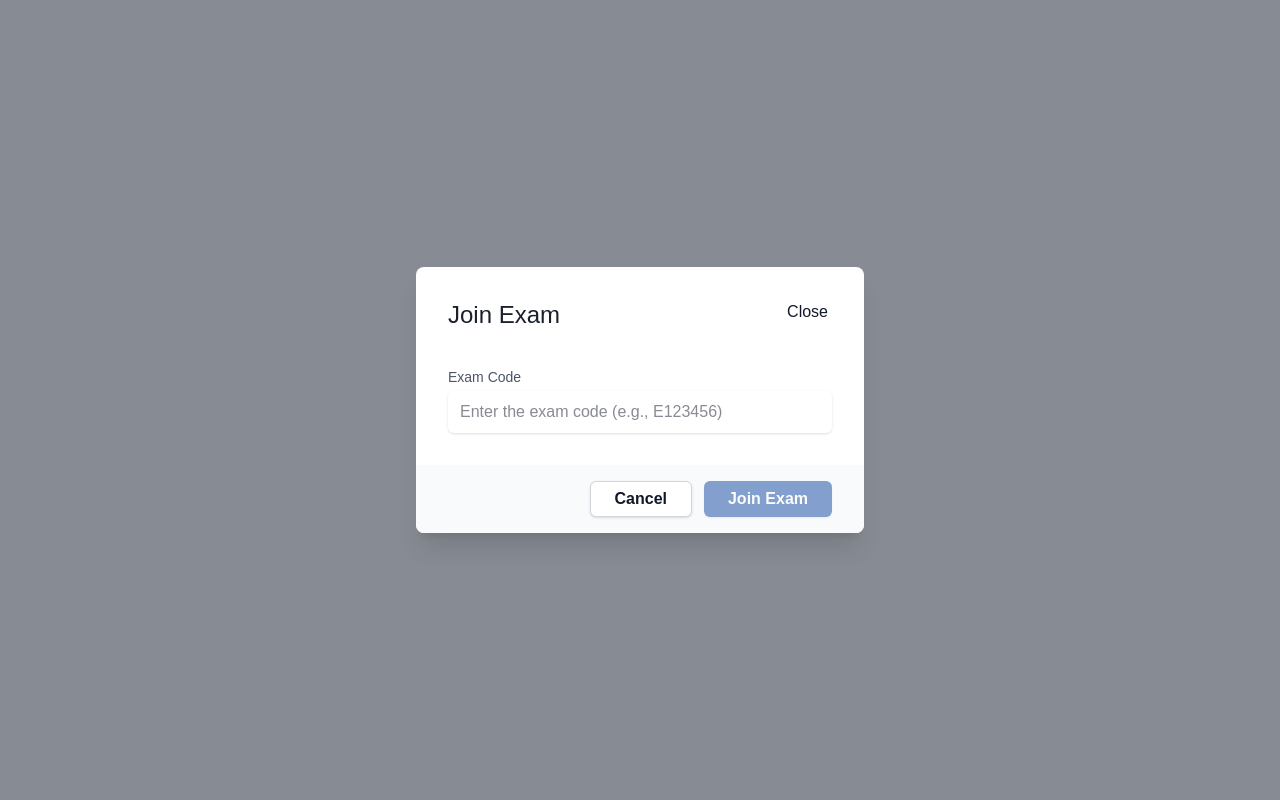
Test: JoinExamModal - Exam Room Join Logic › TC_JOIN_UI_008
Type "BAD-CODE" into the field with placeholder "Enter the exam code (e.g., E123456)" at (640, 412), box left=448, top=391, right=832, bottom=433
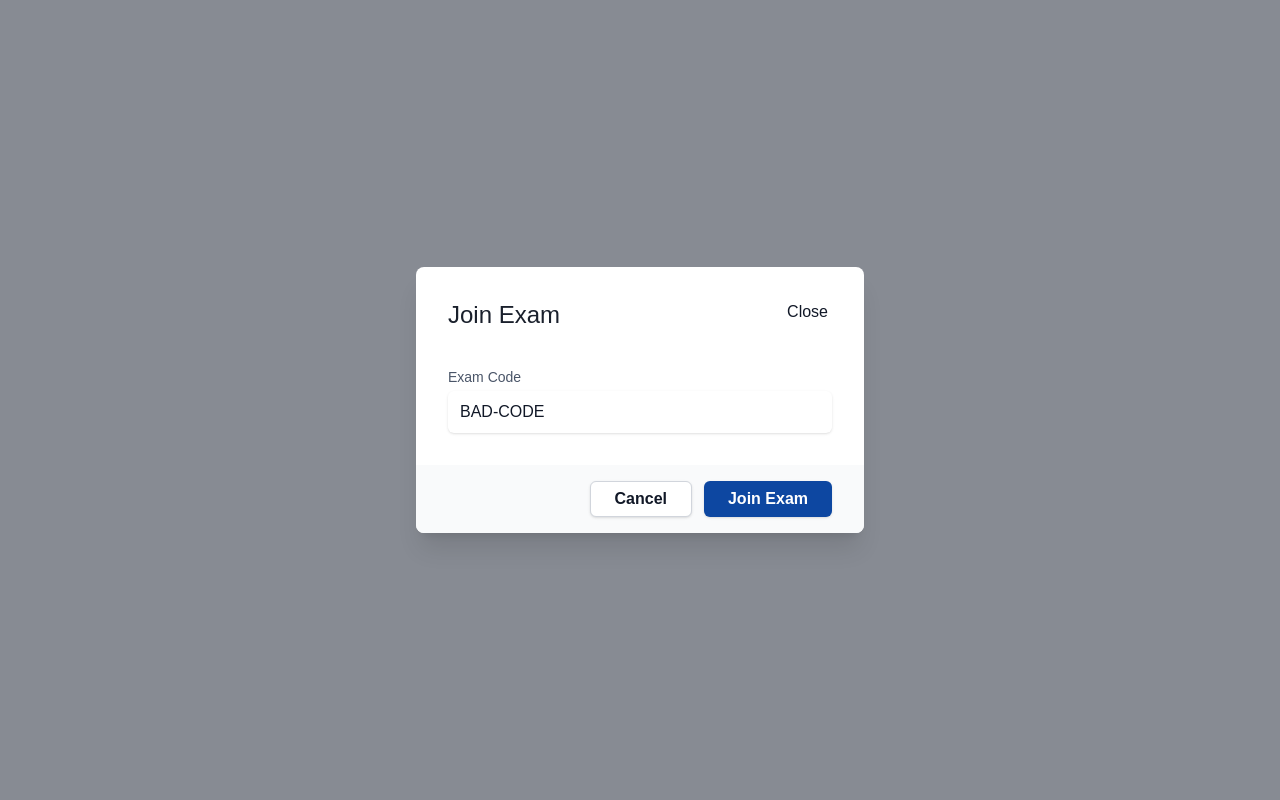
Click the button "Join Exam" at (768, 499), box left=704, top=481, right=832, bottom=517
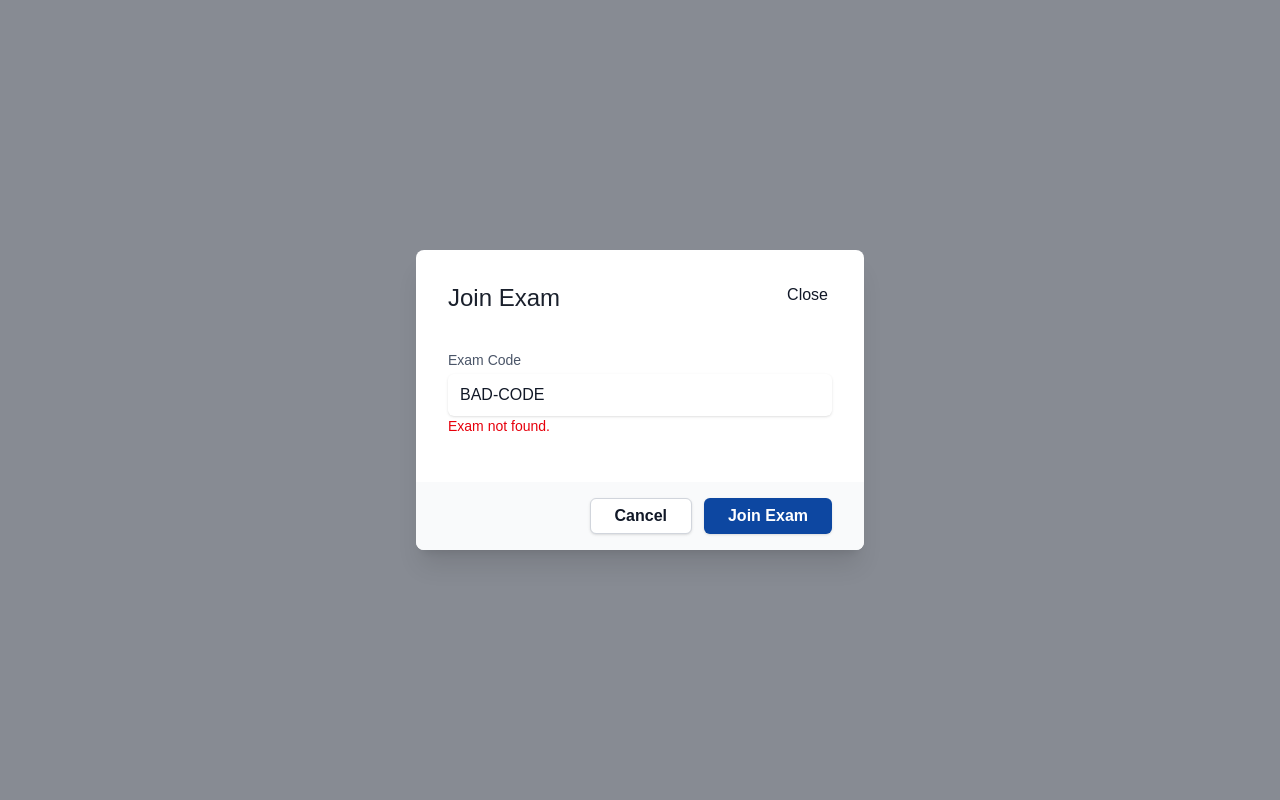
expect the text "Exam not found." is shown: met, box left=448, top=418, right=550, bottom=434
